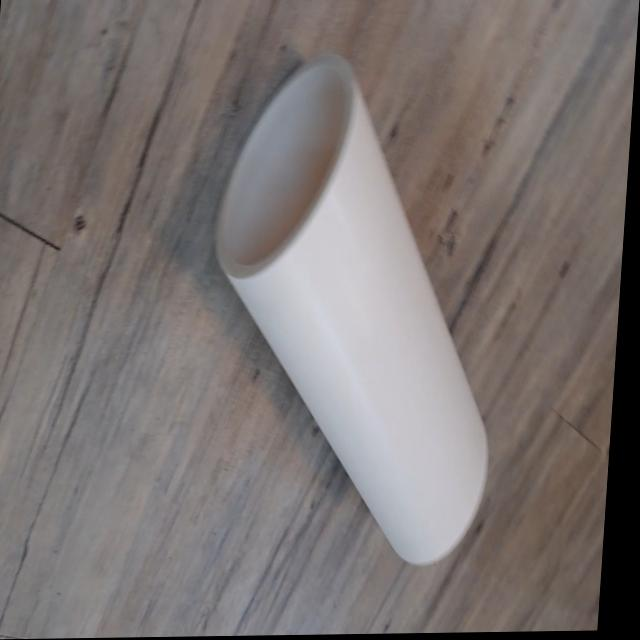CORAL: (184, 40, 523, 579)
